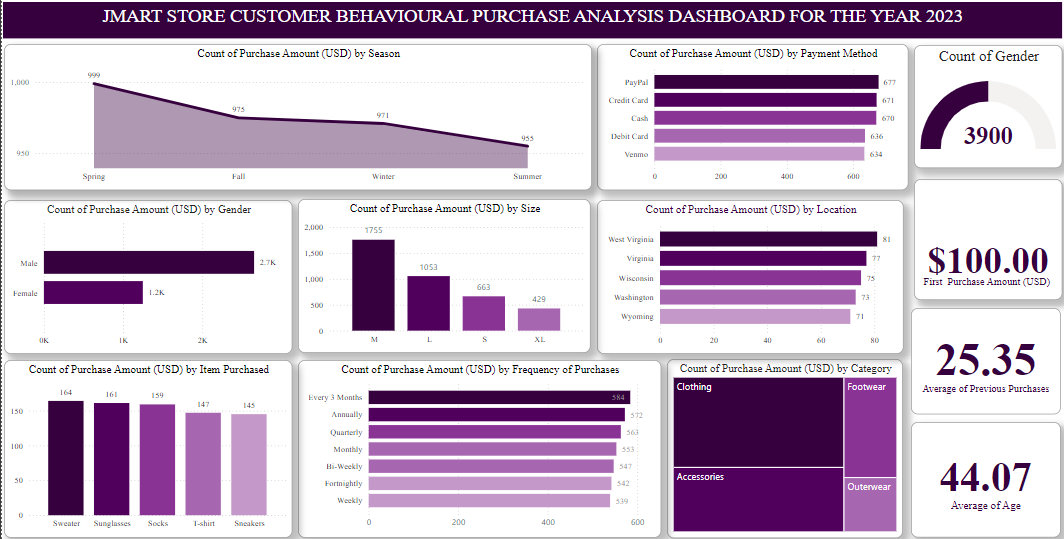

The page's visual inventory and layout, read from the dashboard file:
{"tool":"powerbi","page":{"name":"Page 1","canvas":[2000,900],"ordinal":0},"visuals":[{"type":"barChart","fields":{"Y":["CountNonNull(shopping_behavior_updated. Purchase Amount (USD) )"],"Category":["shopping_behavior_updated.Gender"]},"box":[2.8,286,412.1,220.1],"z":0},{"type":"treemap","fields":{"Group":["shopping_behavior_updated.Category"],"Values":["CountNonNull(shopping_behavior_updated. Purchase Amount (USD) )"]},"box":[1196.7,513.3,350,368.3],"z":1000},{"type":"clusteredBarChart","fields":{"Category":["shopping_behavior_updated.Payment Method"],"Y":["CountNonNull(shopping_behavior_updated. Purchase Amount (USD) )"]},"box":[968.3,63.3,578.3,208.3],"z":2000},{"type":"stackedAreaChart","fields":{"Category":["shopping_behavior_updated.Season"],"Y":["CountNonNull(shopping_behavior_updated. Purchase Amount (USD) )"]},"box":[3.3,63.3,953.3,208.3],"z":3000},{"type":"barChart","fields":{"Y":["CountNonNull(shopping_behavior_updated. Purchase Amount (USD) )"],"Category":["shopping_behavior_updated.Location"]},"box":[968.3,286.7,578.3,218.3],"z":4000},{"type":"columnChart","fields":{"Category":["shopping_behavior_updated.Size"],"Y":["CountNonNull(shopping_behavior_updated. Purchase Amount (USD) )"]},"box":[423.3,285,533.3,220],"z":5000},{"type":"textbox","box":[3.3,3.3,1766.7,51.7],"z":6000},{"type":"card","fields":{"Values":["Min(shopping_behavior_updated. Purchase Amount (USD) )"]},"box":[1560,320,211.7,160],"z":7000},{"type":"clusteredBarChart","fields":{"Category":["shopping_behavior_updated.Frequency of Purchases"],"Y":["CountNonNull(shopping_behavior_updated. Purchase Amount (USD) )"]},"box":[423.3,515,760,366.7],"z":8000},{"type":"card","fields":{"Values":["Avg(shopping_behavior_updated.Previous Purchases)"]},"box":[1560,501.7,213.3,186.7],"z":9000},{"type":"clusteredColumnChart","fields":{"Category":["shopping_behavior_updated.Item Purchased"],"Y":["CountNonNull(shopping_behavior_updated. Purchase Amount (USD) )"]},"box":[3.3,515,411.7,366.7],"z":10000},{"type":"card","fields":{"Values":["Avg(shopping_behavior_updated.Age)"]},"box":[1558.3,716.7,213.3,165],"z":11000},{"type":"gauge","title":"Count of Gender ","fields":{"Y":["CountNonNull(shopping_behavior_updated.Gender)"]},"box":[1560,96.7,210,190],"z":12000}]}

Visuals, with their boxes on the page's 2000x900 design canvas (x1, y1, x2, y2). These are canvas units, not pixel positions in the 1064x539 screenshot, which may show the page scaled, cropped or inside an application window:
barChart - CountNonNull(shopping_behavior_updated. Purchase Amount (USD) ) x shopping_behavior_updated.Gender: l=3, t=286, r=415, b=506
treemap - shopping_behavior_updated.Category x CountNonNull(shopping_behavior_updated. Purchase Amount (USD) ): l=1197, t=513, r=1547, b=882
clusteredBarChart - shopping_behavior_updated.Payment Method x CountNonNull(shopping_behavior_updated. Purchase Amount (USD) ): l=968, t=63, r=1547, b=272
stackedAreaChart - shopping_behavior_updated.Season x CountNonNull(shopping_behavior_updated. Purchase Amount (USD) ): l=3, t=63, r=957, b=272
barChart - CountNonNull(shopping_behavior_updated. Purchase Amount (USD) ) x shopping_behavior_updated.Location: l=968, t=287, r=1547, b=505
columnChart - shopping_behavior_updated.Size x CountNonNull(shopping_behavior_updated. Purchase Amount (USD) ): l=423, t=285, r=957, b=505
textbox: l=3, t=3, r=1770, b=55
card - Min(shopping_behavior_updated. Purchase Amount (USD) ): l=1560, t=320, r=1772, b=480
clusteredBarChart - shopping_behavior_updated.Frequency of Purchases x CountNonNull(shopping_behavior_updated. Purchase Amount (USD) ): l=423, t=515, r=1183, b=882
card - Avg(shopping_behavior_updated.Previous Purchases): l=1560, t=502, r=1773, b=688
clusteredColumnChart - shopping_behavior_updated.Item Purchased x CountNonNull(shopping_behavior_updated. Purchase Amount (USD) ): l=3, t=515, r=415, b=882
card - Avg(shopping_behavior_updated.Age): l=1558, t=717, r=1772, b=882
"Count of Gender " gauge: l=1560, t=97, r=1770, b=287
